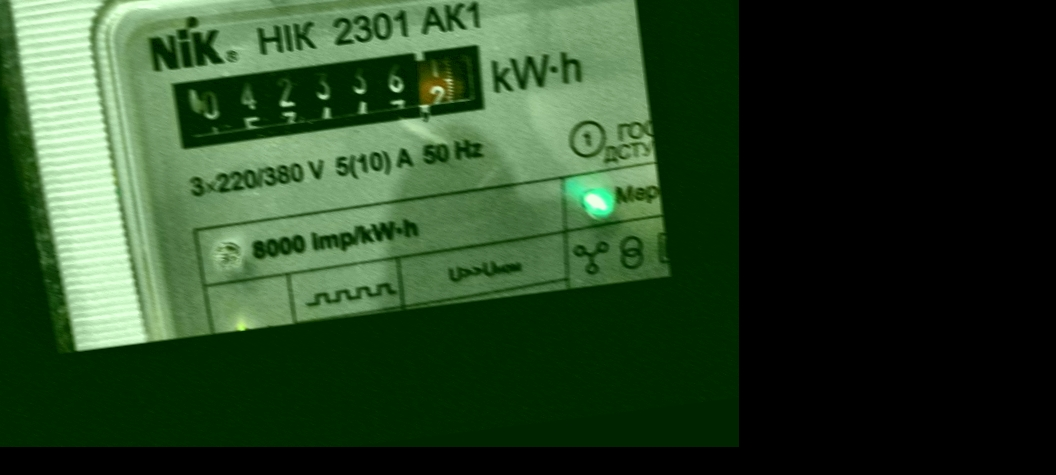0: (197, 88, 220, 123)
1: (424, 54, 440, 81)
2: (272, 74, 297, 110), (425, 84, 445, 107)
3: (309, 69, 330, 103), (347, 64, 368, 98)
4: (236, 79, 257, 113)
6: (382, 61, 406, 97)
screen: (156, 30, 500, 162)
